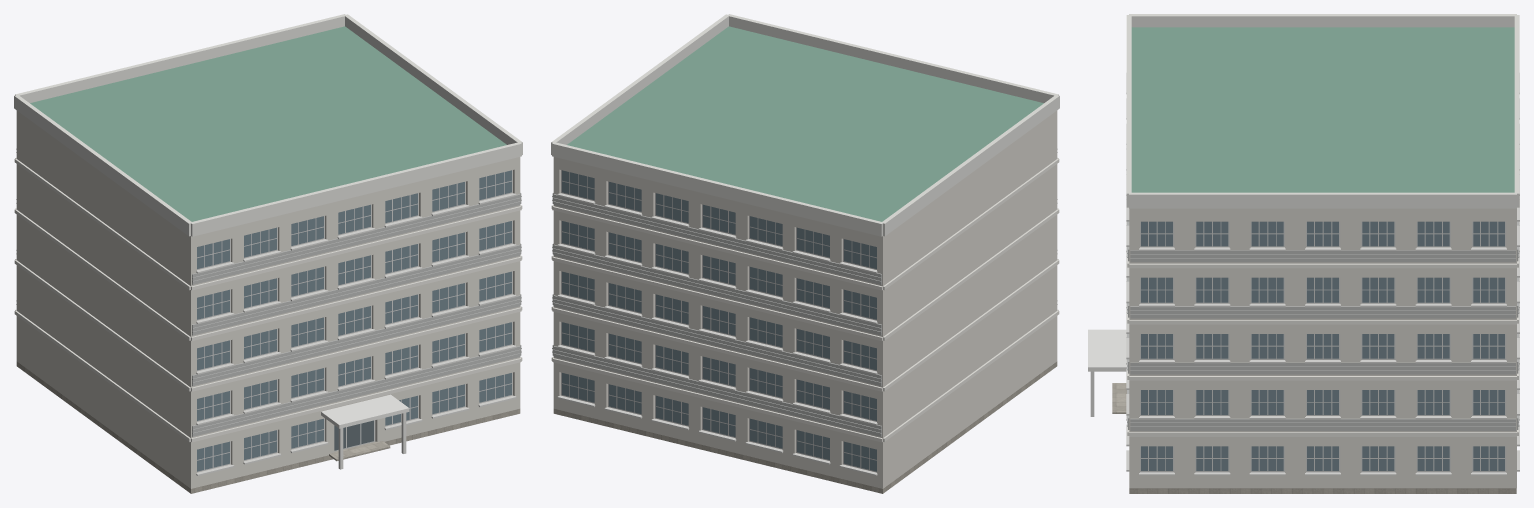
3 views of the same model, side by side, from view 1: azimuth 30°, elevation 25°; view 2: azimuth 150°, elevation 25°; view 3: azimuth 270°, elevation 25° (orthographic). The views are drawn at different scales.
Parts seen in each view (by area): view 1: east__wall, east__greenroof, east__glass, east__cap, east__louvre, east__band, east__frame, east__sill, east__stone, east__canopy, east__doorglass; view 2: east__wall, east__greenroof, east__glass, east__cap, east__louvre, east__band, east__frame, east__sill, east__stone; view 3: east__greenroof, east__wall, east__glass, east__louvre, east__cap, east__frame, east__band, east__sill, east__stone, east__canopy.
Part boxes in pixels (left/top/right/bottom): east__wall: left=16, top=110, right=520, bottom=488; east__greenroof: left=30, top=26, right=506, bottom=221; east__glass: left=197, top=170, right=511, bottom=471; east__cap: left=14, top=14, right=522, bottom=236; east__louvre: left=16, top=149, right=521, bottom=436; east__band: left=14, top=157, right=522, bottom=442; east__frame: left=197, top=170, right=512, bottom=472; east__sill: left=196, top=193, right=516, bottom=475; east__stone: left=16, top=361, right=520, bottom=493; east__canopy: left=321, top=394, right=409, bottom=428; east__doorglass: left=334, top=420, right=373, bottom=450; east__wall: left=553, top=110, right=1057, bottom=488; east__greenroof: left=567, top=26, right=1043, bottom=221; east__glass: left=562, top=170, right=876, bottom=471; east__cap: left=551, top=14, right=1059, bottom=236; east__louvre: left=552, top=149, right=1057, bottom=436; east__band: left=551, top=157, right=1059, bottom=442; east__frame: left=561, top=170, right=876, bottom=472; east__sill: left=557, top=193, right=877, bottom=475; east__stone: left=553, top=361, right=1057, bottom=493; east__greenroof: left=1131, top=27, right=1514, bottom=192; east__wall: left=1129, top=208, right=1516, bottom=488; east__glass: left=1141, top=221, right=1504, bottom=470; east__louvre: left=1127, top=221, right=1519, bottom=430; east__cap: left=1126, top=14, right=1519, bottom=208; east__frame: left=1140, top=221, right=1506, bottom=472; east__band: left=1127, top=258, right=1518, bottom=436; east__sill: left=1126, top=73, right=1519, bottom=475; east__stone: left=1129, top=488, right=1516, bottom=493; east__canopy: left=1088, top=329, right=1126, bottom=371.
Bounding box in the file's own units: 24.85 × 19.26 × 25.08.
13 materials, 1 textured.
